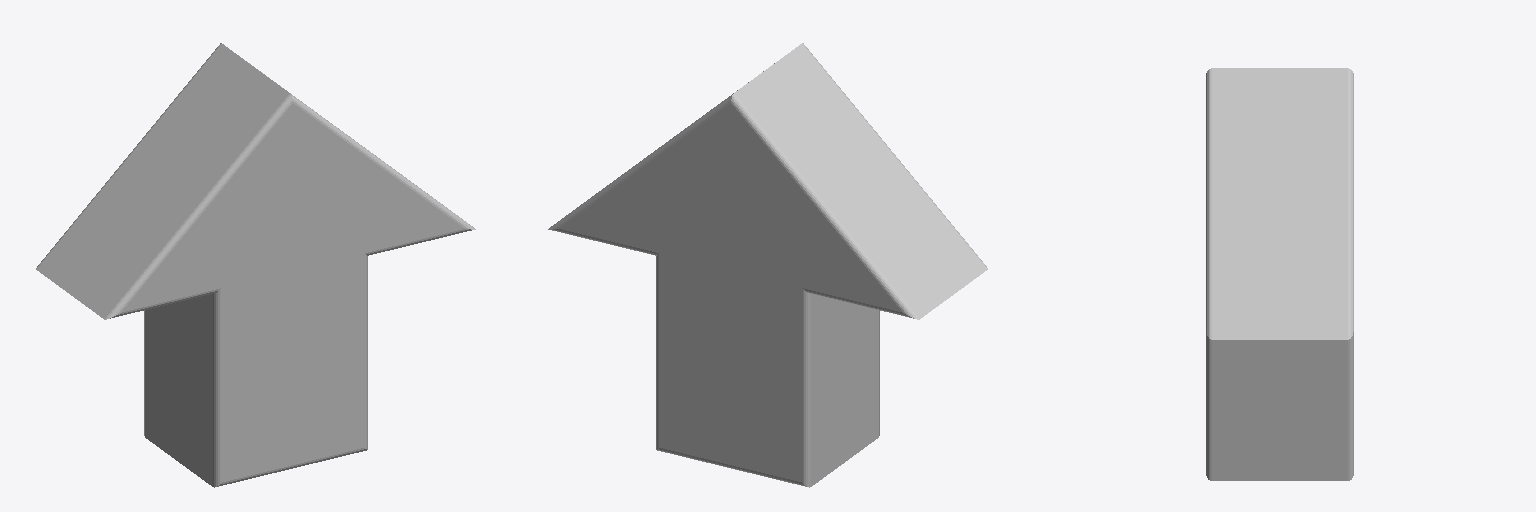
Rendered from plain_upvote_beveled.obj.
3 views of the same model, side by side, from view 1: azimuth 30°, elevation 25°; view 2: azimuth 150°, elevation 25°; view 3: azimuth 270°, elevation 25° (orthographic).
Parts seen in each view (by area): view 1: pCube1; view 2: pCube1; view 3: pCube1.
Boxes of the visible parts, x1=… form: pCube1: x1=36, y1=43, x2=475, y2=487; pCube1: x1=548, y1=43, x2=987, y2=487; pCube1: x1=1206, y1=68, x2=1353, y2=480.
Bounding box in the file's own units: 5.8 × 5.6 × 2.